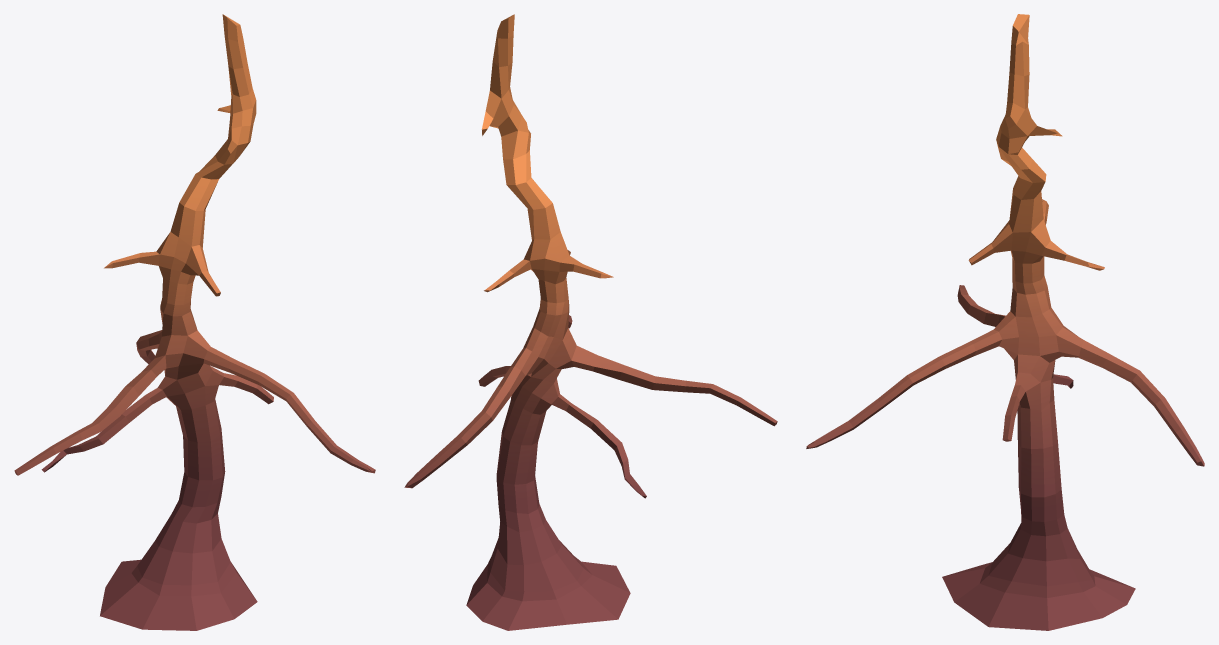
The model's file is Bare_E.fbx.
The picture shows the model from 3 angles, left to right: view 1: azimuth 30°, elevation 25°; view 2: azimuth 150°, elevation 25°; view 3: azimuth 270°, elevation 25°; orthographic projection. The views are drawn at different scales.
Parts seen in each view (by area): view 1: Bare_none1; view 2: Bare_none1; view 3: Bare_none1.
Part boxes in pixels (left/top/right/bottom): Bare_none1: left=14, top=14, right=375, bottom=630; Bare_none1: left=404, top=14, right=777, bottom=630; Bare_none1: left=806, top=14, right=1204, bottom=630.
Bounding box in the file's own units: 18.04 × 34.79 × 20.75.
